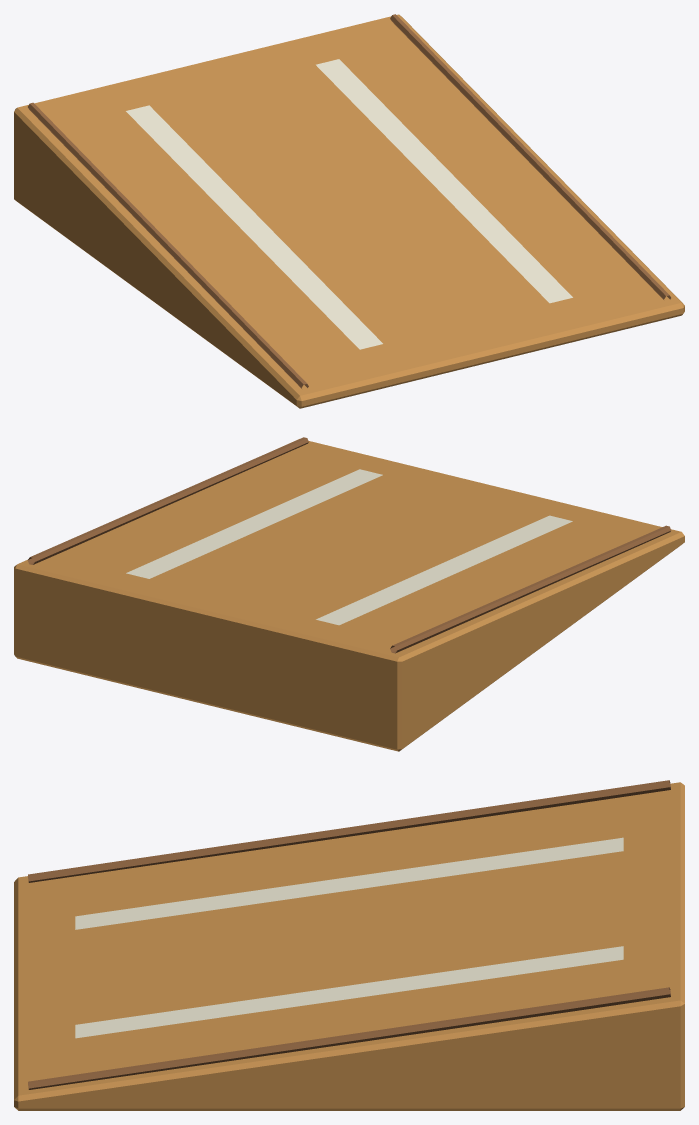
The model's file is boost_ramp.glb.
3 renders of one model, top to bottom at view 1: azimuth 30°, elevation 25°; view 2: azimuth 150°, elevation 25°; view 3: azimuth 270°, elevation 25°, orthographic. The views are drawn at different scales.
Parts seen in each view (by area): view 1: boost_ramp; view 2: boost_ramp; view 3: boost_ramp.
Part boxes in pixels (<box>): boost_ramp: <box>14,14,684,408</box>; boost_ramp: <box>14,437,684,751</box>; boost_ramp: <box>14,780,684,1110</box>.
Size of the model in its own units: 1.8 by 0.4425 by 2.3.
